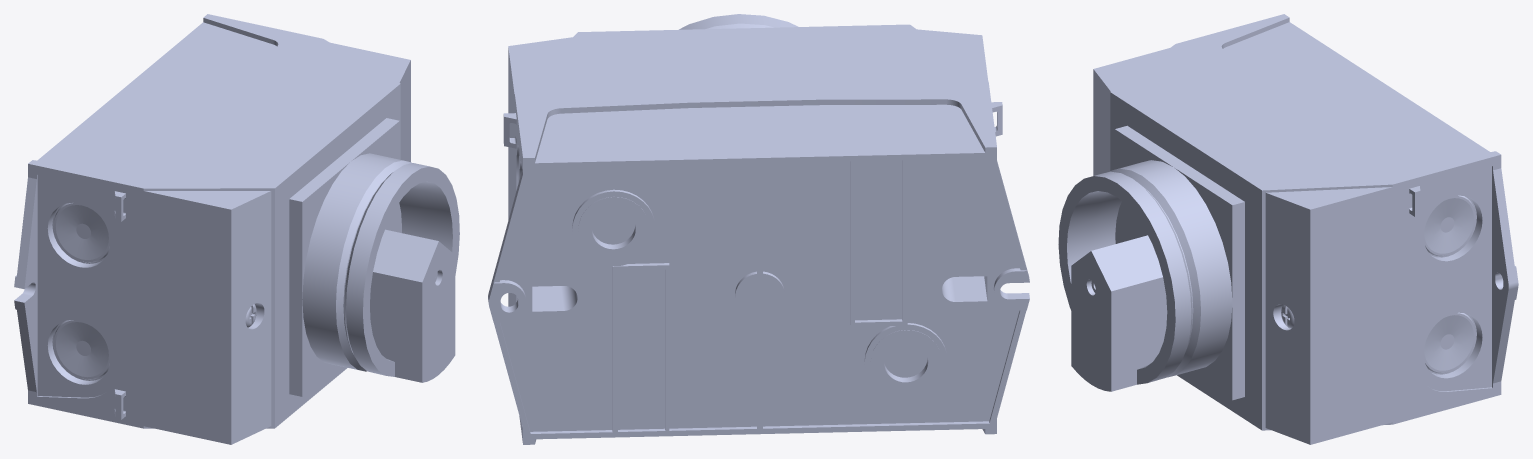
Rendered from panel_rotary_control_switch_1.glb.
3 views of the same model, side by side, from view 1: azimuth 30°, elevation 25°; view 2: azimuth 150°, elevation 25°; view 3: azimuth 270°, elevation 25° (orthographic). The views are drawn at different scales.
Parts seen in each view (by area): view 1: rotary_control_switch_1; view 2: rotary_control_switch_1; view 3: rotary_control_switch_1.
Part boxes in pixels (x1,y1,x2,y2): rotary_control_switch_1: [14, 14, 459, 444]; rotary_control_switch_1: [488, 14, 1029, 444]; rotary_control_switch_1: [1058, 14, 1518, 444].
Bounding box in the file's own units: 0.1453 × 0.08 × 0.1389.
